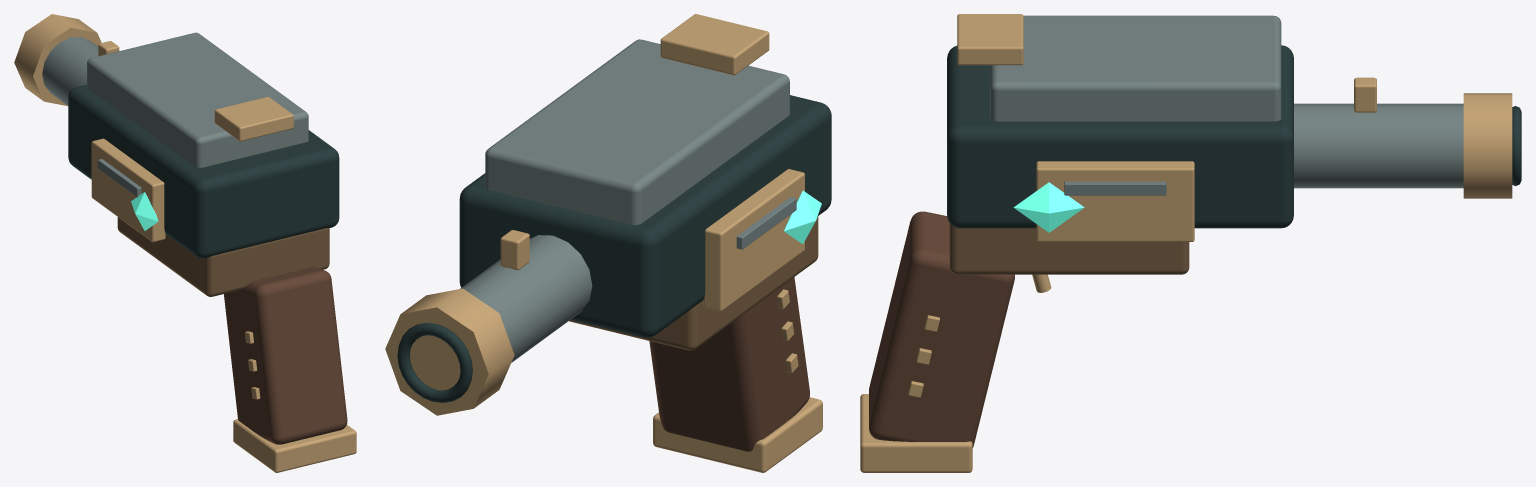
The picture shows the model from 3 angles, left to right: view 1: azimuth 30°, elevation 25°; view 2: azimuth 150°, elevation 25°; view 3: azimuth 270°, elevation 25°; orthographic projection. The views are drawn at different scales.
Parts seen in each view (by area): view 1: relic sidearm receiver, angled walnut grip, sliding upper rail, brass lower frame, engraved side plate, grip pommel, octagonal muzzle collar, rear sight, long rifled barrel, charged relic bead, side plate inlay; view 2: sliding upper rail, relic sidearm receiver, angled walnut grip, octagonal muzzle collar, long rifled barrel, engraved side plate, rear sight, grip pommel, brass lower frame, dark muzzle aperture, charged relic bead, side plate inlay (+1 smaller); view 3: relic sidearm receiver, sliding upper rail, angled walnut grip, long rifled barrel, engraved side plate, brass lower frame, octagonal muzzle collar, grip pommel, rear sight, charged relic bead, side plate inlay, front sight (+1 smaller).
Boxes of the visible parts, x1=… form: relic sidearm receiver: x1=68, y1=85, x2=339, y2=258; angled walnut grip: x1=224, y1=267, x2=347, y2=444; sliding upper rail: x1=87, y1=32, x2=308, y2=167; brass lower frame: x1=117, y1=217, x2=329, y2=296; engraved side plate: x1=91, y1=138, x2=165, y2=242; grip pommel: x1=233, y1=419, x2=356, y2=472; octagonal muzzle collar: x1=14, y1=14, x2=101, y2=105; rear sight: x1=214, y1=96, x2=293, y2=141; long rifled barrel: x1=42, y1=37, x2=98, y2=105; charged relic bead: x1=131, y1=192, x2=158, y2=230; side plate inlay: x1=98, y1=159, x2=141, y2=197; sliding upper rail: x1=485, y1=39, x2=789, y2=225; relic sidearm receiver: x1=459, y1=95, x2=831, y2=337; angled walnut grip: x1=649, y1=277, x2=809, y2=451; octagonal muzzle collar: x1=385, y1=288, x2=514, y2=415; long rifled barrel: x1=460, y1=235, x2=592, y2=362; engraved side plate: x1=703, y1=169, x2=804, y2=311; rear sight: x1=660, y1=14, x2=769, y2=75; grip pommel: x1=653, y1=397, x2=822, y2=472; brass lower frame: x1=569, y1=216, x2=818, y2=350; dark muzzle aperture: x1=397, y1=323, x2=472, y2=402; charged relic bead: x1=784, y1=190, x2=821, y2=244; side plate inlay: x1=736, y1=197, x2=796, y2=249; relic sidearm receiver: x1=947, y1=45, x2=1293, y2=228; sliding upper rail: x1=990, y1=15, x2=1281, y2=121; angled walnut grip: x1=869, y1=211, x2=1014, y2=447; long rifled barrel: x1=1294, y1=103, x2=1463, y2=188; engraved side plate: x1=1036, y1=161, x2=1194, y2=241; brass lower frame: x1=949, y1=223, x2=1189, y2=274; octagonal muzzle collar: x1=1463, y1=93, x2=1512, y2=198; grip pommel: x1=860, y1=394, x2=972, y2=472; rear sight: x1=957, y1=14, x2=1023, y2=65; charged relic bead: x1=1013, y1=182, x2=1084, y2=232; side plate inlay: x1=1064, y1=181, x2=1166, y2=195; front sight: x1=1354, y1=77, x2=1376, y2=112.
Bounding box in the file's own units: 0.562 × 0.8875 × 1.3.
